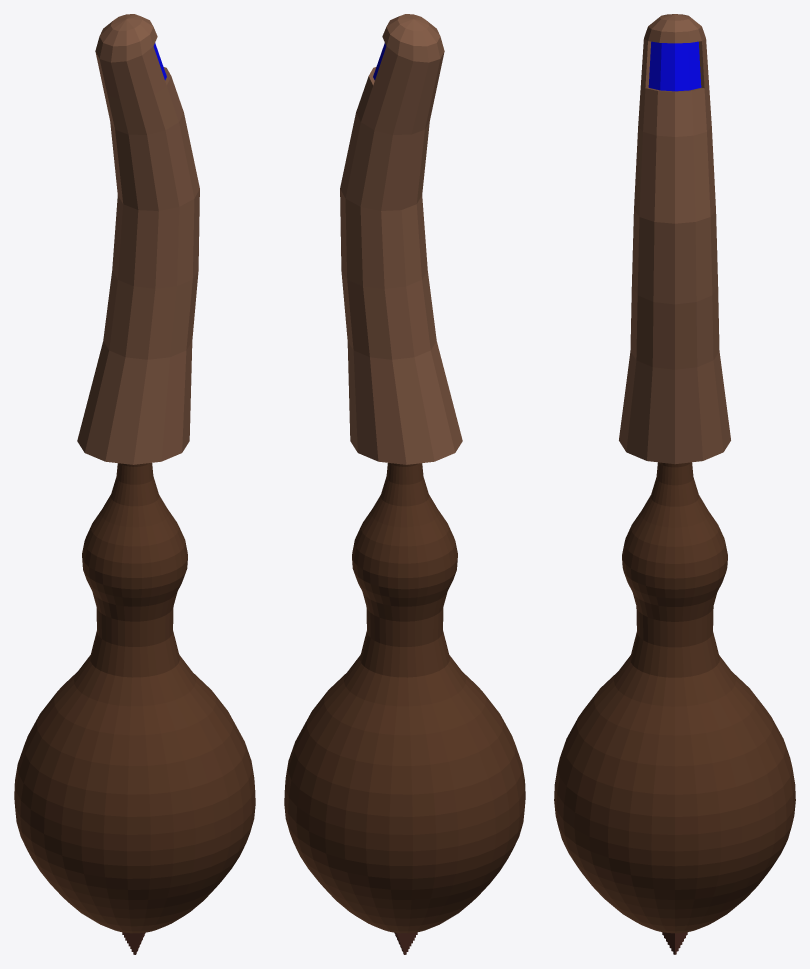
The model's file is Wand 644.glb.
The picture shows the model from 3 angles, left to right: view 1: azimuth 30°, elevation 25°; view 2: azimuth 150°, elevation 25°; view 3: azimuth 270°, elevation 25°; orthographic projection.
Parts seen in each view (by area): view 1: GeneratedWand; view 2: GeneratedWand; view 3: GeneratedWand.
Boxes of the visible parts, x1,y1,x2,y2 form: GeneratedWand: (14, 14, 255, 954); GeneratedWand: (284, 14, 525, 954); GeneratedWand: (554, 14, 795, 954).
Size of the model in its own units: 0.123 by 0.5253 by 0.123.
